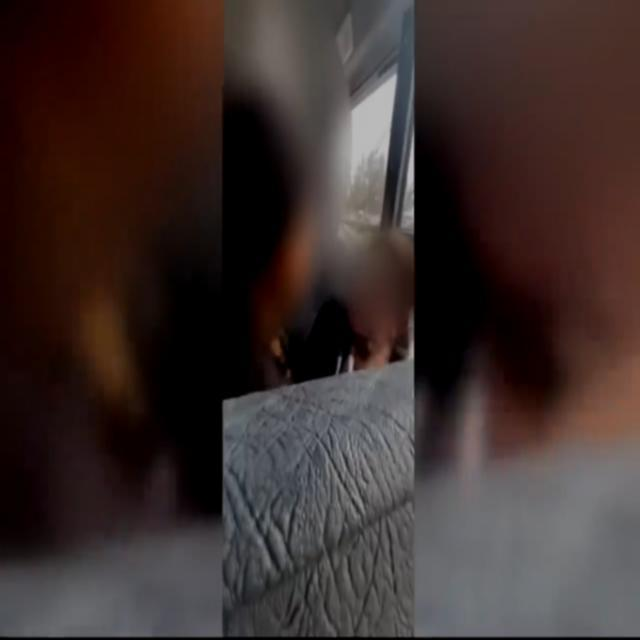fight: (215, 74, 429, 392)
